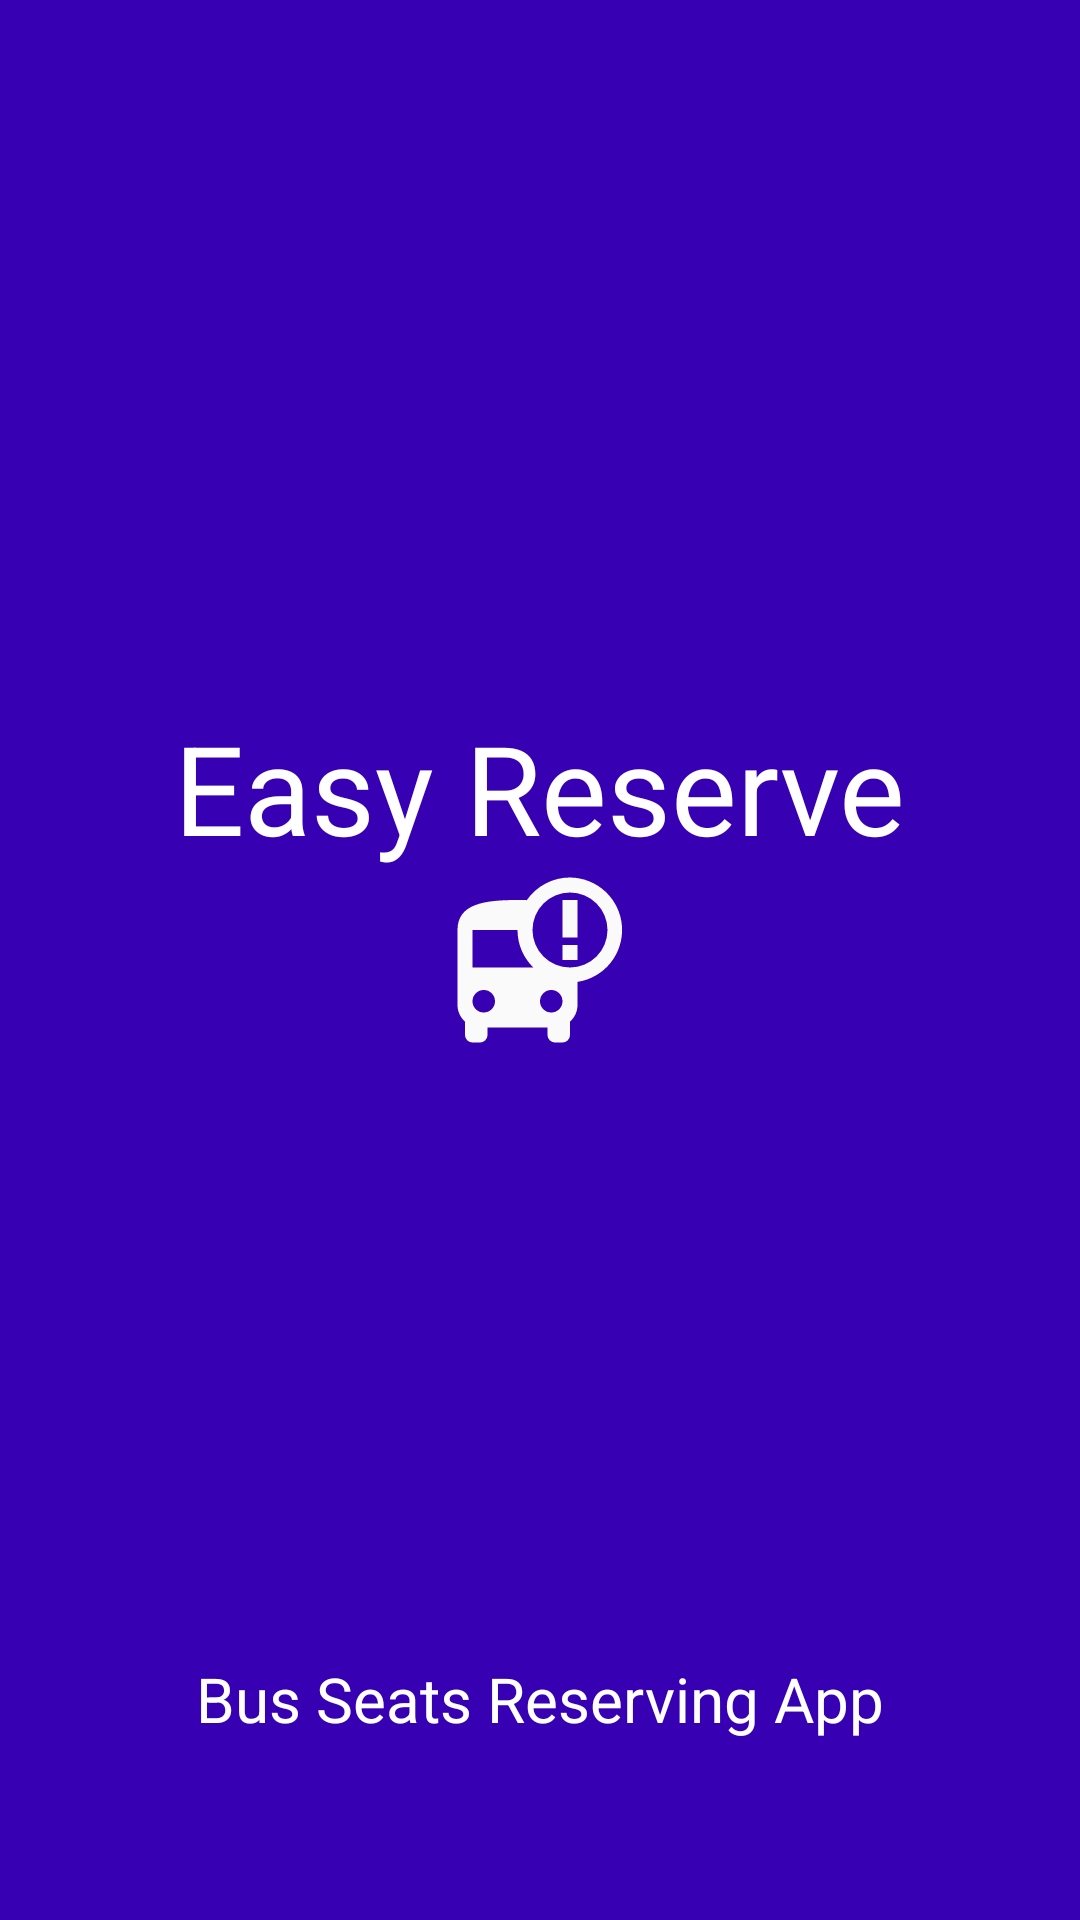

Where to tap for icons on this 1080×1920 app screen, as (x,y):
bus alert: (539,960)
